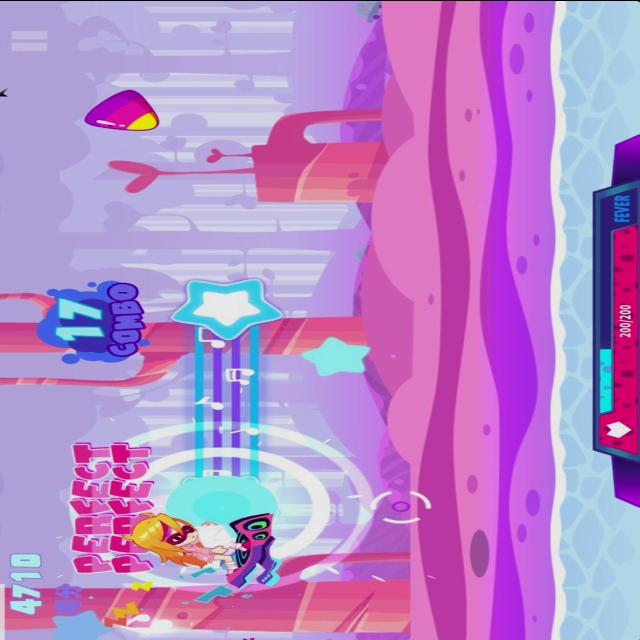hold: (168, 272, 292, 518)
jian: (77, 86, 165, 130)
